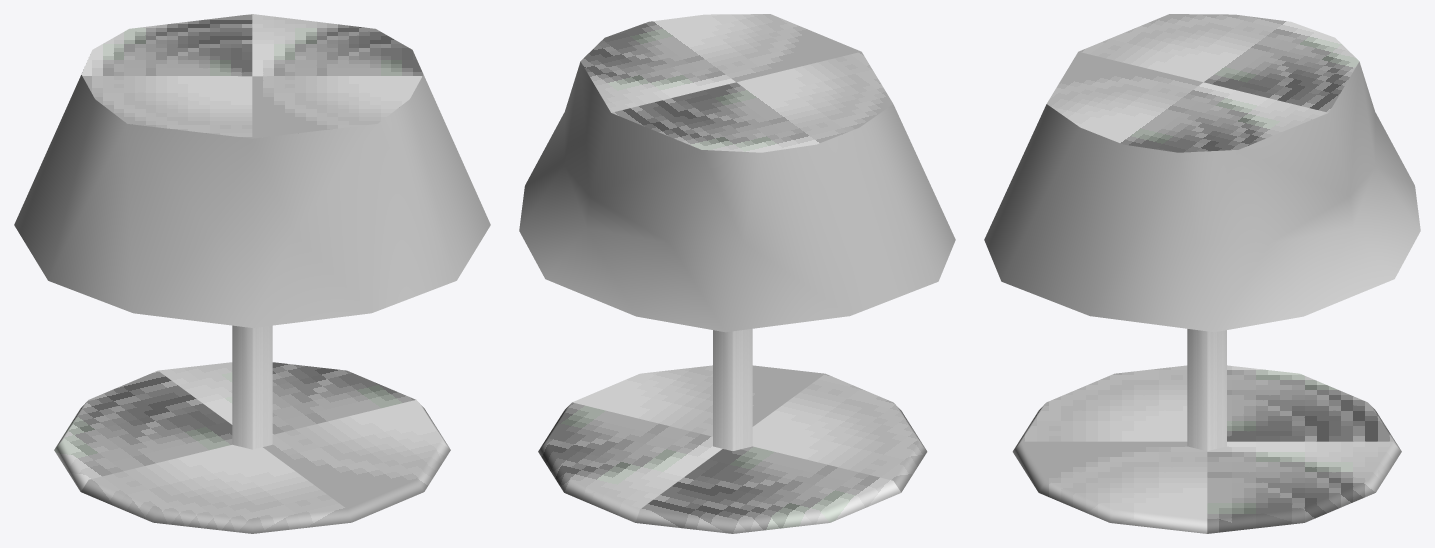
File: mq_btms_skt_grc.dae
3 renders of one model, left to right at view 1: azimuth 30°, elevation 25°; view 2: azimuth 150°, elevation 25°; view 3: azimuth 270°, elevation 25°, orthographic.
Parts seen in each view (by area): view 1: mq_btms_skt_grc; view 2: mq_btms_skt_grc; view 3: mq_btms_skt_grc.
Boxes of the visible parts, x1,y1,x2,y2 form: mq_btms_skt_grc: [14, 14, 490, 533]; mq_btms_skt_grc: [519, 14, 955, 533]; mq_btms_skt_grc: [984, 14, 1420, 533].
Size of the model in its own units: 20.53 by 17.75 by 19.06.
2 materials, 2 textured.
